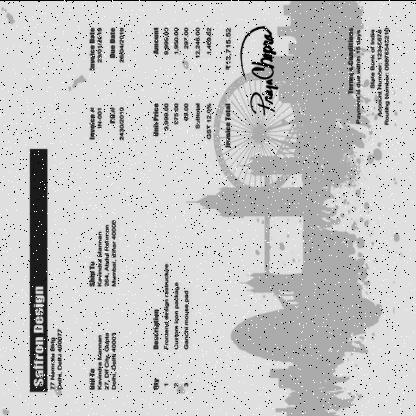Paragraph: (347, 24, 391, 126), (89, 218, 117, 286), (89, 330, 117, 390), (32, 284, 46, 387), (224, 22, 232, 150), (49, 326, 63, 390), (88, 26, 102, 70), (109, 26, 124, 62), (109, 106, 124, 140), (88, 106, 102, 140)
Table: (150, 24, 213, 392)
